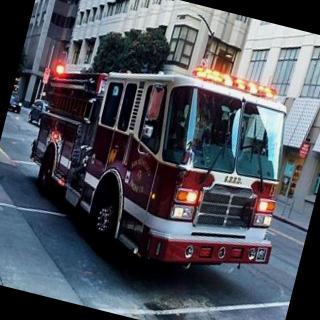Fire_truck: (9, 24, 312, 292)
